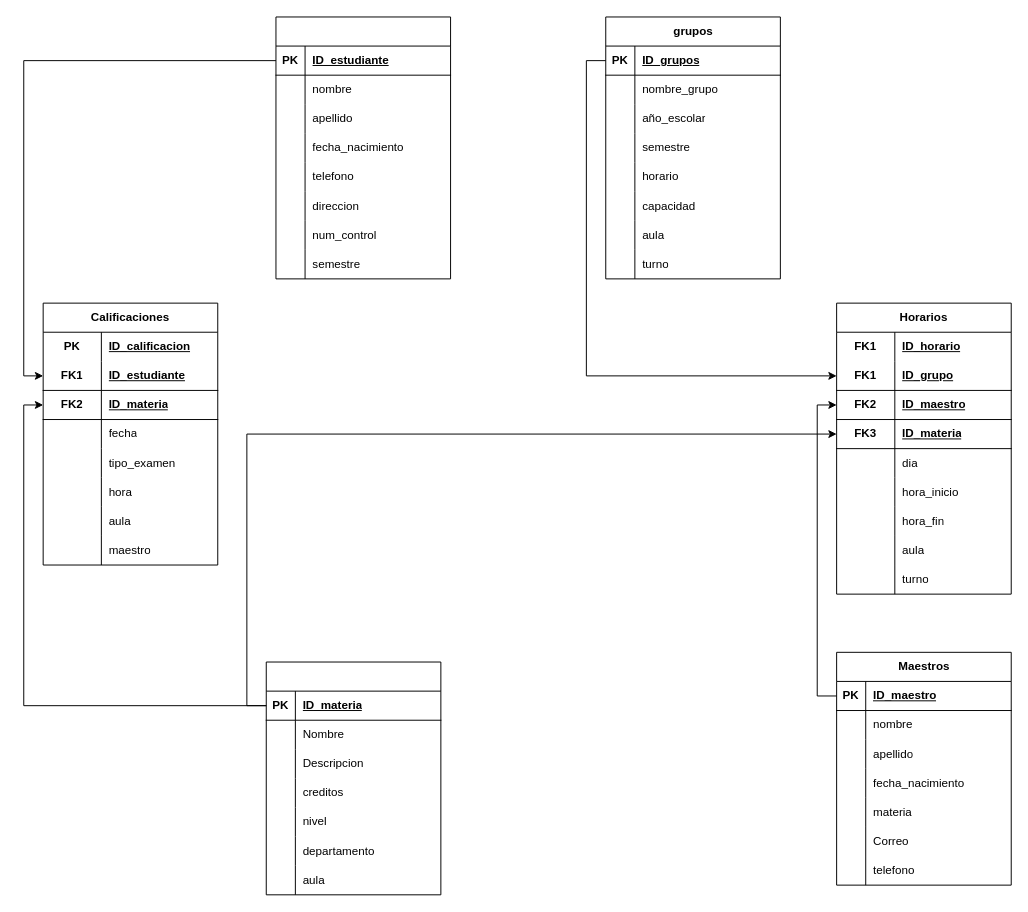
Image size: 1028x912. Some labels were removed from this diagram. Here are the shapes that lost their labels. From the top down, the box of each, then its label:
(275, 16, 451, 279): Estudiantes
(265, 661, 441, 895): Materias
